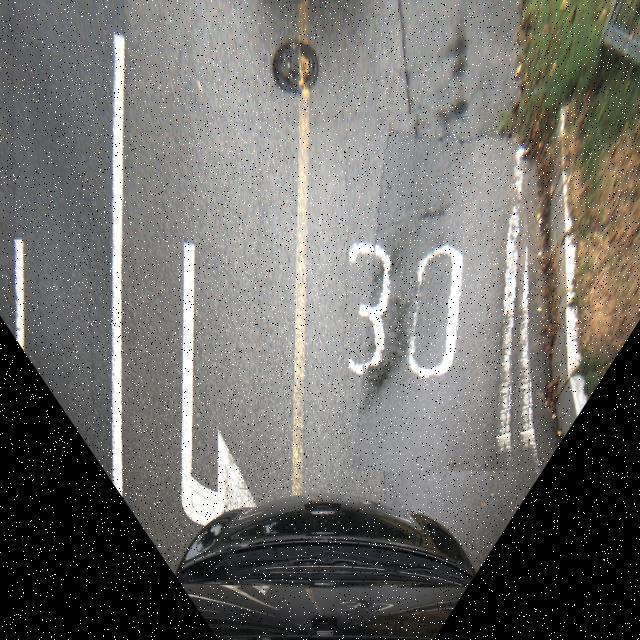left: (349, 114, 536, 471)
